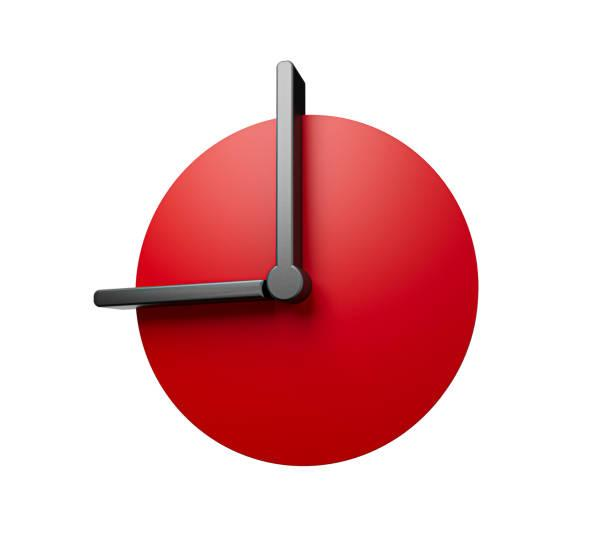clock: (86, 34, 502, 486)
